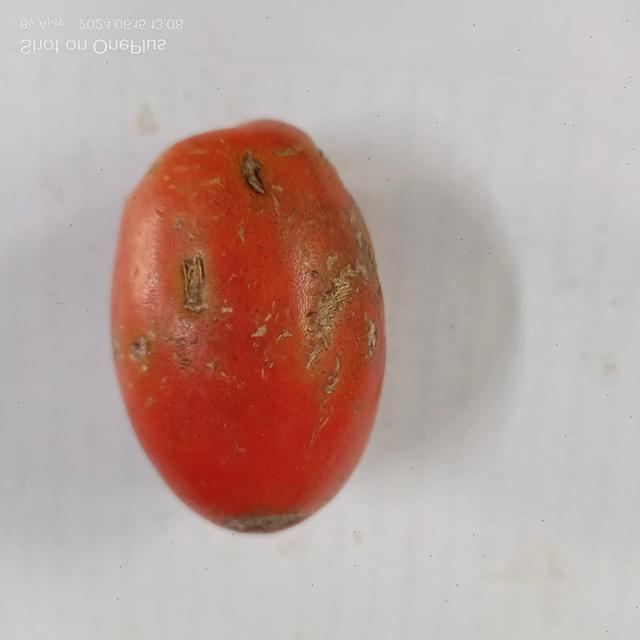Bacterial Spot Fruit: (3, 2, 218, 234)
